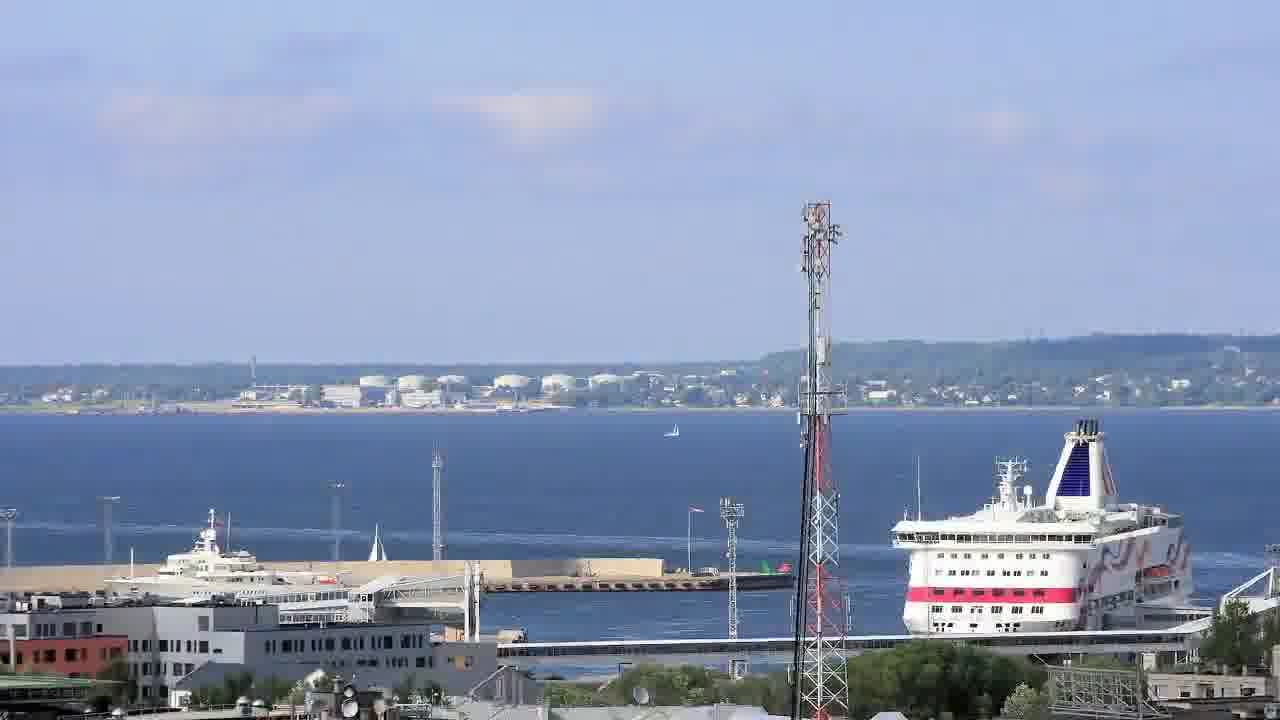type-2: (645, 400, 707, 456)
type-3: (868, 415, 1225, 638), (84, 511, 353, 609)
